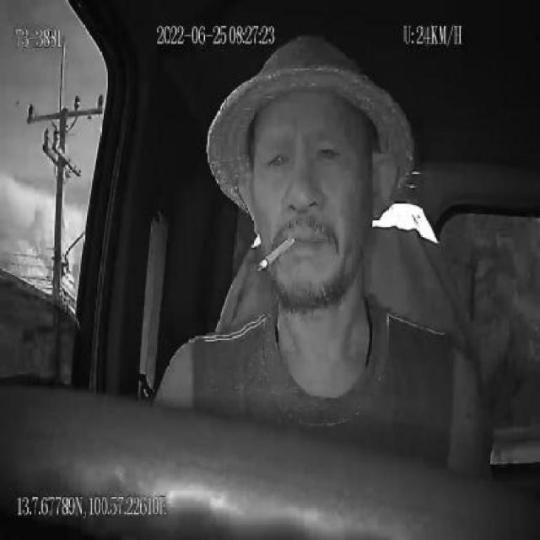smoking: (257, 231, 298, 271)
